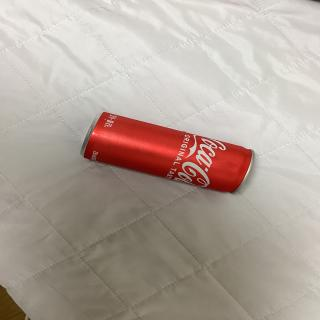cocacola: (65, 106, 262, 202)
